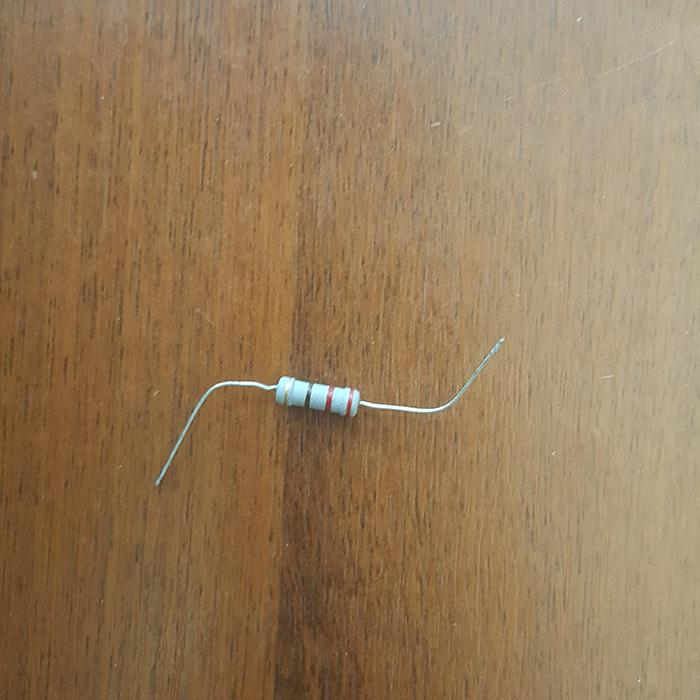resistor: (273, 374, 360, 416)
